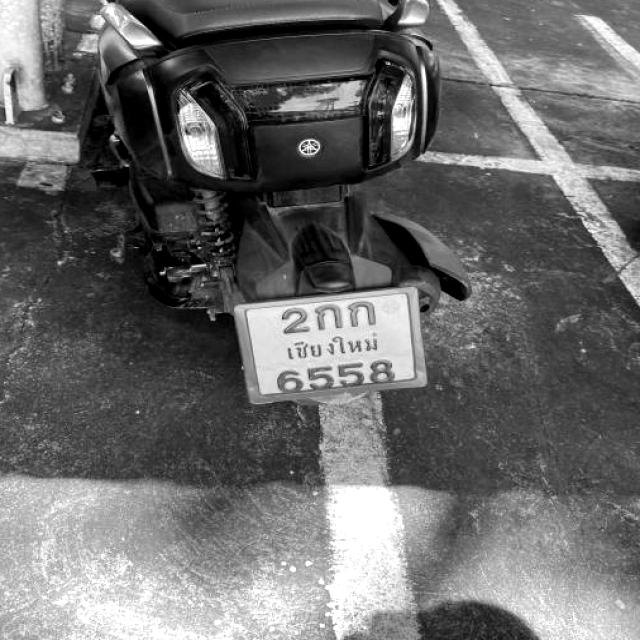letters: (313, 297, 344, 332), (272, 367, 299, 399), (284, 302, 309, 332), (351, 298, 374, 330), (305, 365, 332, 391), (370, 358, 392, 385), (339, 361, 361, 386)
license-plate: (238, 289, 427, 406)
province: (281, 338, 393, 356)
